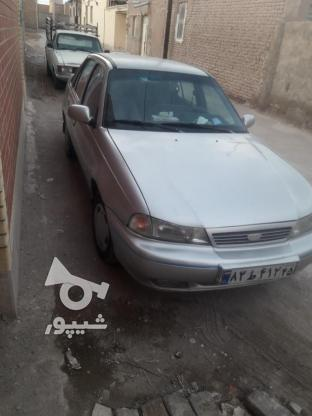car: (219, 262, 293, 288)
